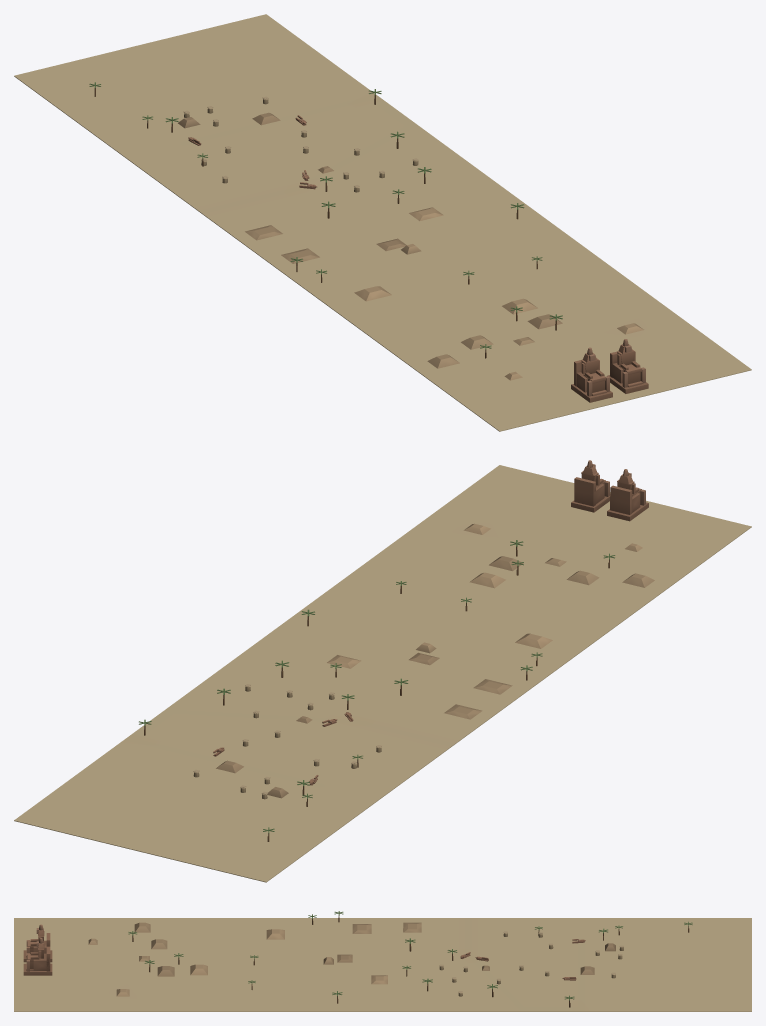
File: memnon-ruin.glb
3 renders of one model, top to bottom at view 1: azimuth 30°, elevation 25°; view 2: azimuth 150°, elevation 25°; view 3: azimuth 270°, elevation 25°, orthographic. The views are drawn at different scales.
Parts seen in each view (by area): view 1: p0_ground, p1_colossi, p3_fields, p2_stumps; view 2: p0_ground, p1_colossi, p3_fields, p2_stumps; view 3: p0_ground, p1_colossi, p3_fields, p2_stumps.
Boxes of the visible parts, bbox=[...] form: p0_ground: bbox=[14, 14, 751, 431]; p1_colossi: bbox=[178, 112, 648, 402]; p3_fields: bbox=[89, 82, 562, 358]; p2_stumps: bbox=[183, 96, 418, 192]; p0_ground: bbox=[14, 465, 751, 882]; p1_colossi: bbox=[216, 460, 654, 798]; p3_fields: bbox=[139, 540, 615, 841]; p2_stumps: bbox=[193, 684, 381, 799]; p0_ground: bbox=[14, 918, 751, 1011]; p1_colossi: bbox=[23, 922, 615, 996]; p3_fields: bbox=[128, 911, 692, 1006]; p2_stumps: bbox=[439, 931, 623, 996].
Size of the model in its own units: 120 by 20.17 by 400.
